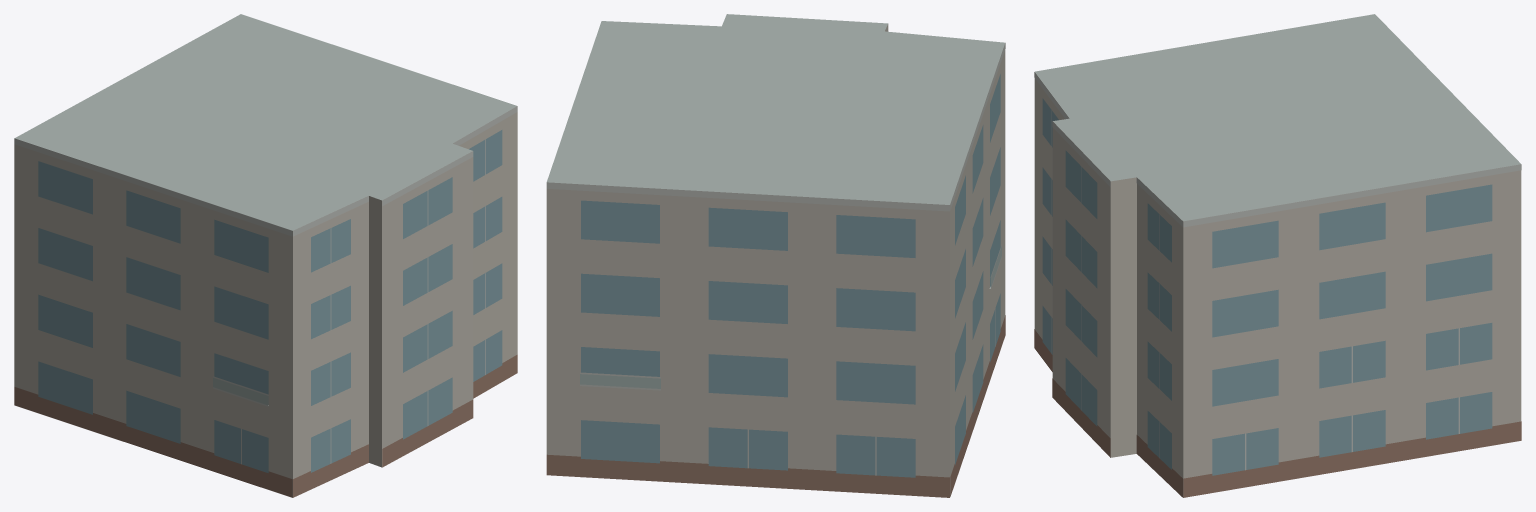
The model's file is survey-upis-32942452.glb.
3 renders of one model, left to right at view 1: azimuth 30°, elevation 25°; view 2: azimuth 150°, elevation 25°; view 3: azimuth 270°, elevation 25°, orthographic. The views are drawn at different scales.
Visible parts, largest first — view 1: survey-upis-32942452.tmp; view 2: survey-upis-32942452.tmp; view 3: survey-upis-32942452.tmp.
Boxes of the visible parts, bbox=[...] form: survey-upis-32942452.tmp: bbox=[14, 14, 517, 497]; survey-upis-32942452.tmp: bbox=[546, 14, 1005, 497]; survey-upis-32942452.tmp: bbox=[1034, 14, 1521, 497].
Size of the model in its own units: 17.86 by 11.1 by 17.73.
